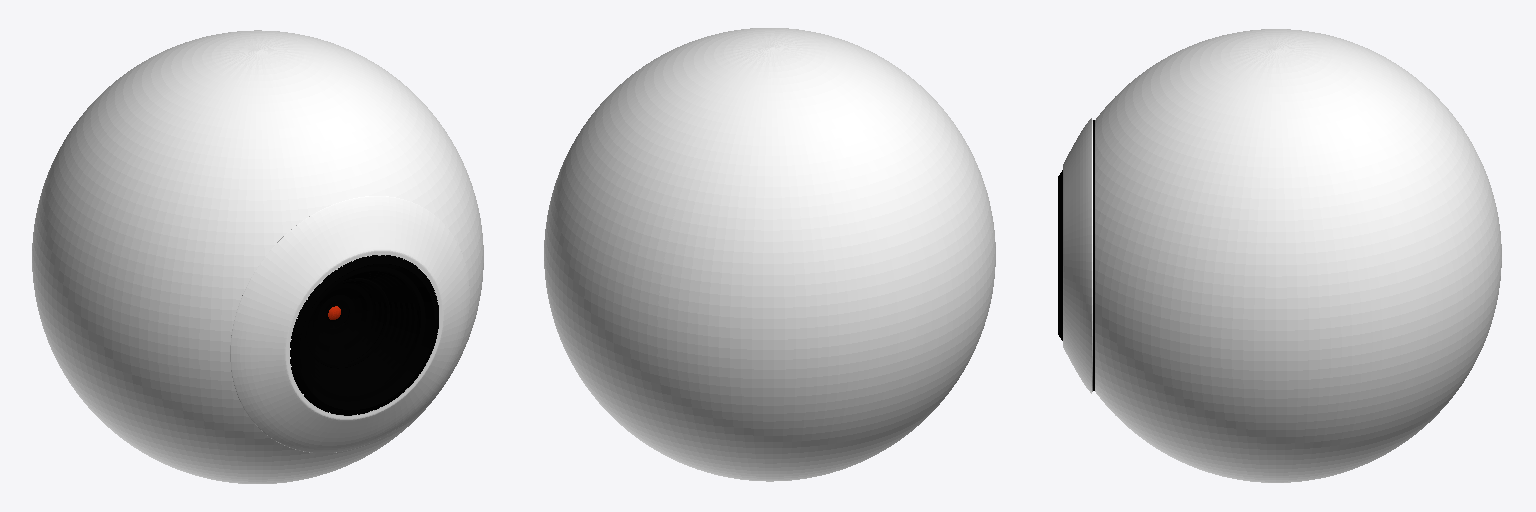
File: DroneSphere.obj
The picture shows the model from 3 angles: view 1: azimuth 30°, elevation 25°; view 2: azimuth 150°, elevation 25°; view 3: azimuth 270°, elevation 25°; orthographic projection.
Parts seen in each view (by area): view 1: Head.002_Cube.002, Head_Cube, Head.001_Cube.001, Aperture.Blade.01_Mesh.001; view 2: Head.002_Cube.002; view 3: Head.002_Cube.002, Head_Cube.
Boxes of the visible parts, x1,y1,x2,y2 form: Head.002_Cube.002: [32, 30, 483, 483]; Head_Cube: [290, 255, 438, 414]; Head.001_Cube.001: [307, 278, 389, 368]; Aperture.Blade.01_Mesh.001: [318, 295, 354, 334]; Head.002_Cube.002: [544, 28, 995, 481]; Head.002_Cube.002: [1063, 29, 1501, 482]; Head_Cube: [1058, 170, 1062, 340].
Size of the model in its own units: 0.9908 by 1 by 0.9728.